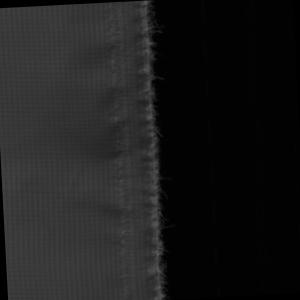Damage: (130, 1, 178, 300)
